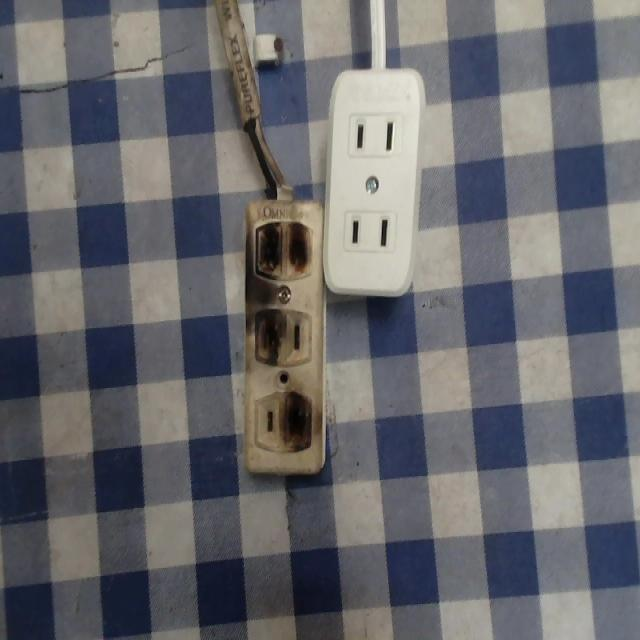-: (251, 204, 314, 287), (281, 387, 326, 461), (249, 304, 290, 369)
